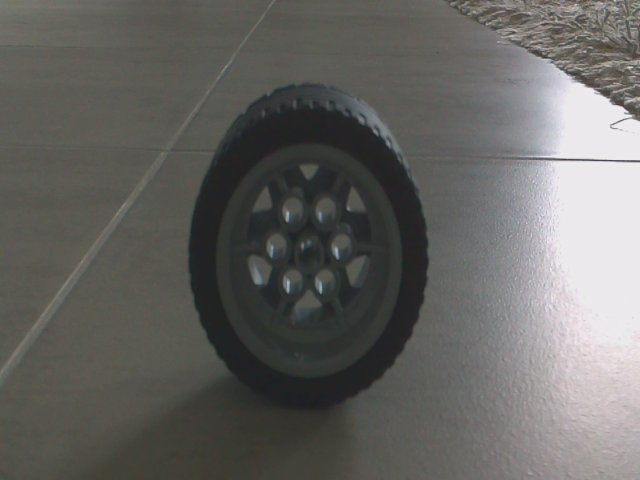Rad: (184, 75, 435, 417)
